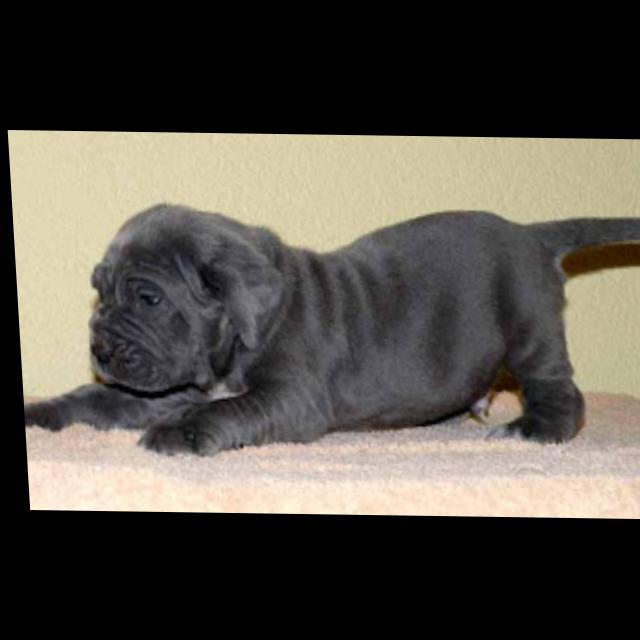mastino_napoletano: (10, 187, 640, 462)
